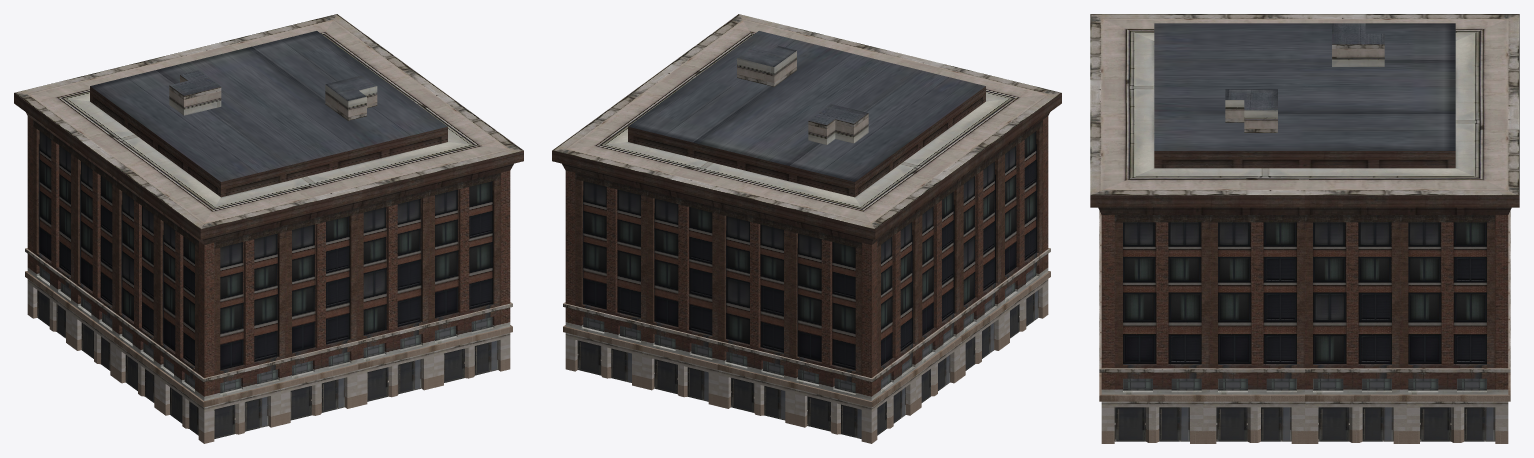
File: BuildingBrickResidential.obj
The picture shows the model from 3 angles, left to right: view 1: azimuth 30°, elevation 25°; view 2: azimuth 150°, elevation 25°; view 3: azimuth 270°, elevation 25°; orthographic projection. The views are drawn at different scales.
Parts seen in each view (by area): view 1: Downtown_Residential_3_Downtown_Facade_FLR_2_0, Downtown_Residential_3_Downtown_Modern_Firstfloor_FLR_1_0; view 2: Downtown_Residential_3_Downtown_Facade_FLR_2_0, Downtown_Residential_3_Downtown_Modern_Firstfloor_FLR_1_0; view 3: Downtown_Residential_3_Downtown_Facade_FLR_2_0, Downtown_Residential_3_Downtown_Modern_Firstfloor_FLR_1_0.
Boxes of the visible parts, x1=… form: Downtown_Residential_3_Downtown_Facade_FLR_2_0: x1=14, y1=14, x2=523, y2=443; Downtown_Residential_3_Downtown_Modern_Firstfloor_FLR_1_0: x1=37, y1=290, x2=498, y2=438; Downtown_Residential_3_Downtown_Facade_FLR_2_0: x1=552, y1=14, x2=1061, y2=443; Downtown_Residential_3_Downtown_Modern_Firstfloor_FLR_1_0: x1=577, y1=290, x2=1038, y2=438; Downtown_Residential_3_Downtown_Facade_FLR_2_0: x1=1090, y1=14, x2=1519, y2=443; Downtown_Residential_3_Downtown_Modern_Firstfloor_FLR_1_0: x1=1114, y1=407, x2=1495, y2=441.
Bounding box in the file's own units: 36.95 × 27.88 × 36.95.
Materials: 2 (2 with a texture image).
